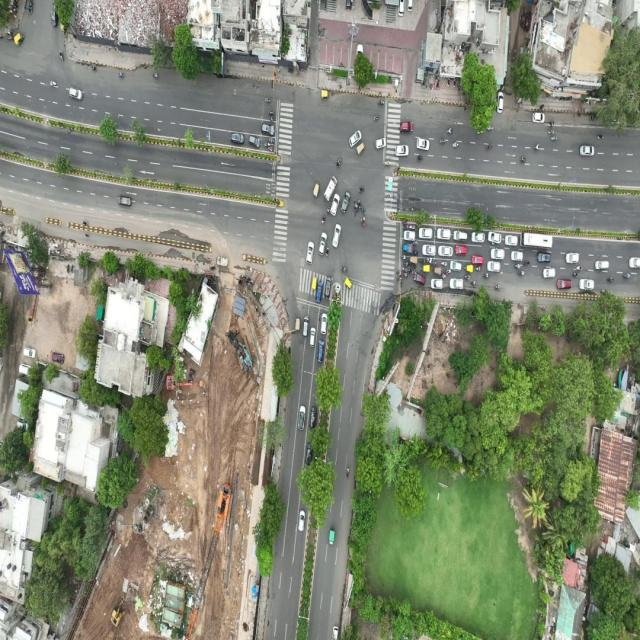3W: (12, 31, 28, 50), (318, 85, 332, 105), (22, 0, 36, 19), (311, 176, 321, 202), (406, 251, 419, 268), (343, 272, 353, 294), (355, 140, 367, 158), (431, 263, 444, 279), (293, 313, 302, 336), (310, 273, 319, 294), (419, 264, 432, 276), (462, 264, 474, 276)
Bus: (518, 230, 554, 251)
Cars: (576, 275, 598, 294), (347, 126, 364, 150), (340, 184, 352, 218), (66, 84, 86, 104), (328, 189, 341, 218), (331, 220, 343, 251), (296, 402, 307, 435), (115, 191, 134, 210), (414, 134, 432, 154), (317, 229, 329, 259), (229, 128, 246, 149), (300, 310, 311, 342), (304, 238, 316, 267), (494, 89, 506, 117), (308, 404, 320, 432), (393, 141, 411, 159), (436, 241, 454, 259), (447, 276, 466, 293), (420, 242, 439, 259), (246, 130, 262, 150), (487, 228, 503, 248), (260, 120, 277, 138), (435, 226, 453, 243), (452, 227, 468, 246), (316, 336, 326, 366), (304, 439, 314, 468), (398, 118, 414, 136), (578, 142, 596, 158), (555, 276, 573, 292), (18, 362, 36, 378), (318, 311, 329, 337), (453, 241, 468, 260), (530, 110, 547, 126), (489, 247, 506, 263), (469, 252, 486, 268), (418, 224, 434, 241), (50, 350, 67, 366), (49, 1, 59, 28), (412, 271, 427, 289), (315, 275, 324, 305), (323, 272, 332, 302), (297, 508, 307, 534), (536, 249, 552, 265), (470, 230, 486, 246), (23, 344, 39, 360), (309, 322, 317, 353), (627, 253, 640, 272), (373, 136, 388, 152), (522, 10, 532, 34), (564, 251, 580, 266), (509, 248, 524, 264), (402, 229, 418, 244), (448, 257, 463, 273), (593, 259, 610, 273), (485, 260, 502, 274), (540, 266, 556, 280), (502, 234, 518, 248), (429, 278, 445, 292), (355, 42, 366, 61), (16, 418, 28, 434), (397, 0, 406, 18), (331, 623, 340, 640), (344, 0, 354, 12), (407, 0, 414, 14)
LCV: (322, 168, 338, 205), (326, 523, 338, 550), (400, 242, 414, 257), (587, 112, 601, 125)
M2W: (332, 152, 346, 170), (449, 138, 461, 154), (46, 76, 59, 90), (343, 461, 352, 481), (56, 48, 67, 64), (517, 154, 529, 168), (383, 154, 393, 170), (595, 130, 606, 144), (434, 74, 442, 93), (357, 181, 366, 197), (520, 257, 532, 269), (319, 212, 328, 228), (69, 28, 78, 44), (375, 97, 386, 110), (484, 122, 494, 136), (532, 140, 542, 154), (359, 215, 367, 232), (546, 118, 557, 130), (621, 270, 632, 282), (339, 264, 350, 276), (262, 93, 272, 106), (485, 141, 495, 154), (570, 269, 580, 282), (445, 124, 454, 138), (266, 106, 277, 117), (546, 127, 557, 138), (511, 261, 522, 272), (473, 264, 484, 275), (89, 62, 99, 74), (81, 216, 91, 228), (372, 113, 382, 125), (606, 274, 616, 286), (516, 268, 526, 280), (480, 271, 492, 281), (439, 257, 449, 269), (442, 266, 452, 278), (267, 142, 276, 155), (324, 242, 330, 261), (494, 281, 502, 295), (324, 202, 331, 218), (116, 69, 126, 80), (188, 365, 198, 376), (438, 136, 447, 148), (408, 259, 417, 271), (360, 202, 367, 217), (416, 152, 424, 165), (550, 133, 558, 146), (268, 113, 278, 123), (400, 258, 410, 268), (399, 264, 409, 274), (268, 135, 277, 146), (575, 263, 584, 274), (401, 221, 410, 232), (152, 70, 160, 82), (6, 32, 14, 44), (407, 265, 414, 278), (262, 140, 272, 149), (451, 77, 457, 92), (462, 273, 472, 282), (417, 256, 426, 266), (429, 258, 438, 268), (399, 252, 408, 262), (395, 268, 404, 278), (402, 269, 411, 279), (407, 222, 417, 231), (356, 197, 362, 212), (5, 28, 15, 37), (439, 272, 448, 281), (399, 216, 408, 225), (412, 248, 421, 257), (187, 371, 196, 380), (187, 378, 196, 387), (352, 202, 360, 212), (446, 76, 451, 90), (470, 279, 477, 289), (425, 255, 432, 265), (412, 238, 418, 248)
Truck: (214, 251, 230, 273)
